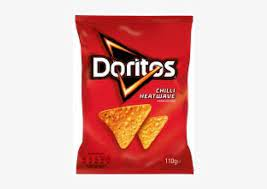Doritos: (70, 10, 198, 176)
